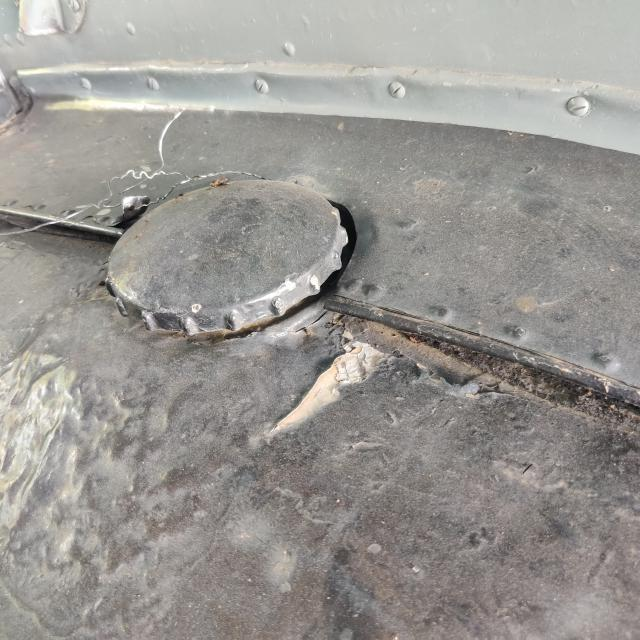Paint-off: (261, 342, 397, 444)
